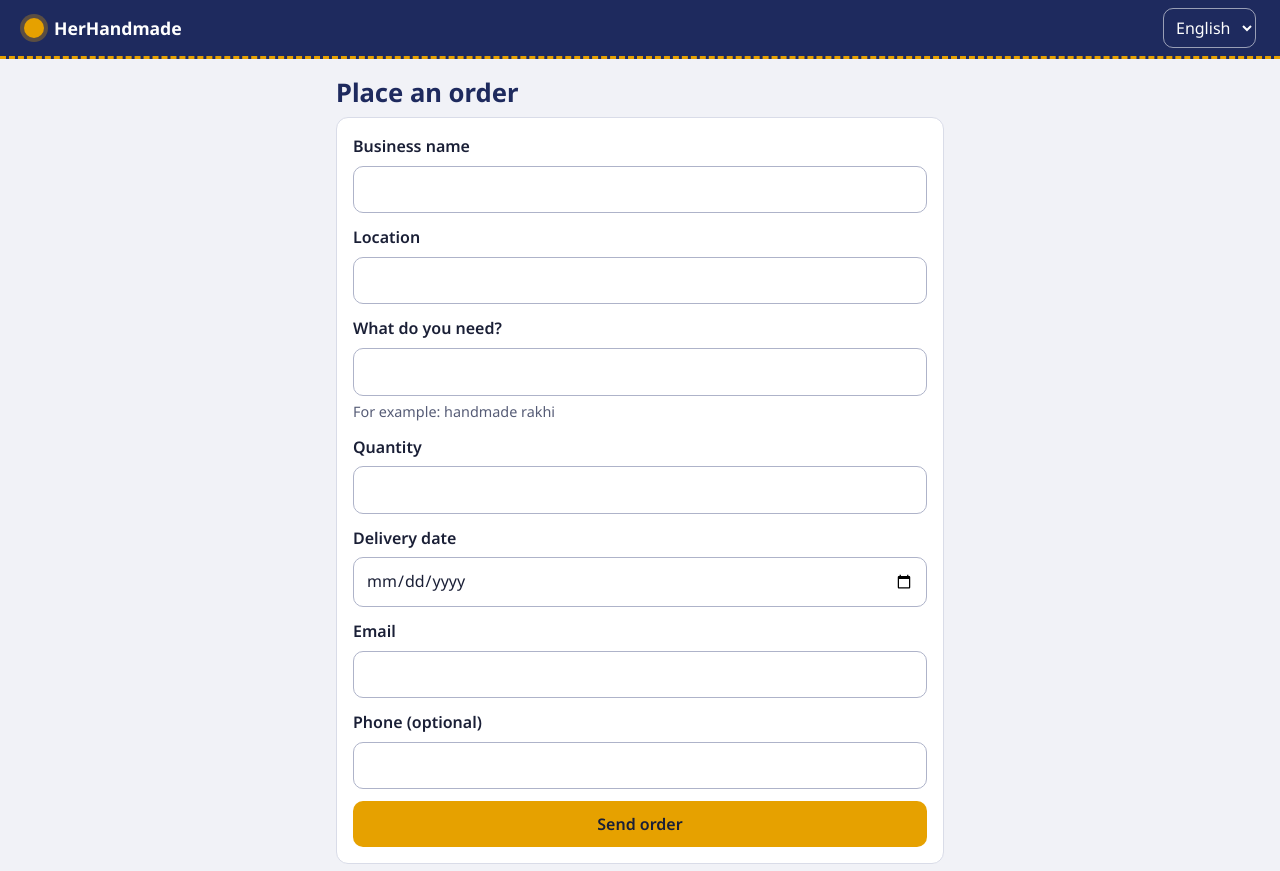
Scenario: a server error is shown in the user's language
Step 1. Type "A" into the field labelled "Business name" → (640, 189), box top-left (353, 166), bottom-right (927, 213)
Step 2. Type "B" into the field labelled "Location" → (640, 281), box top-left (353, 257), bottom-right (927, 304)
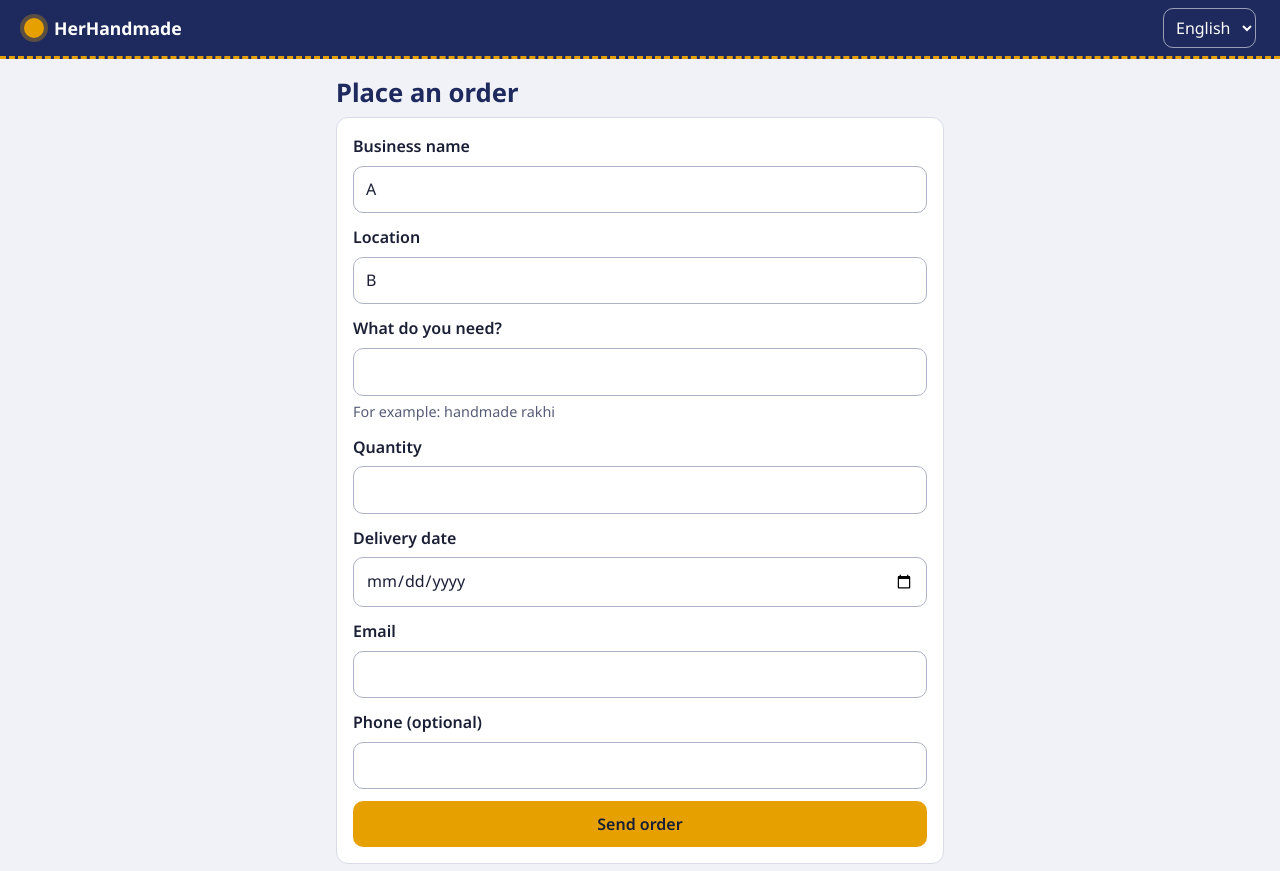
Step 3. Type "C" into the field labelled "What do you need?" → (640, 372), box top-left (353, 348), bottom-right (927, 396)
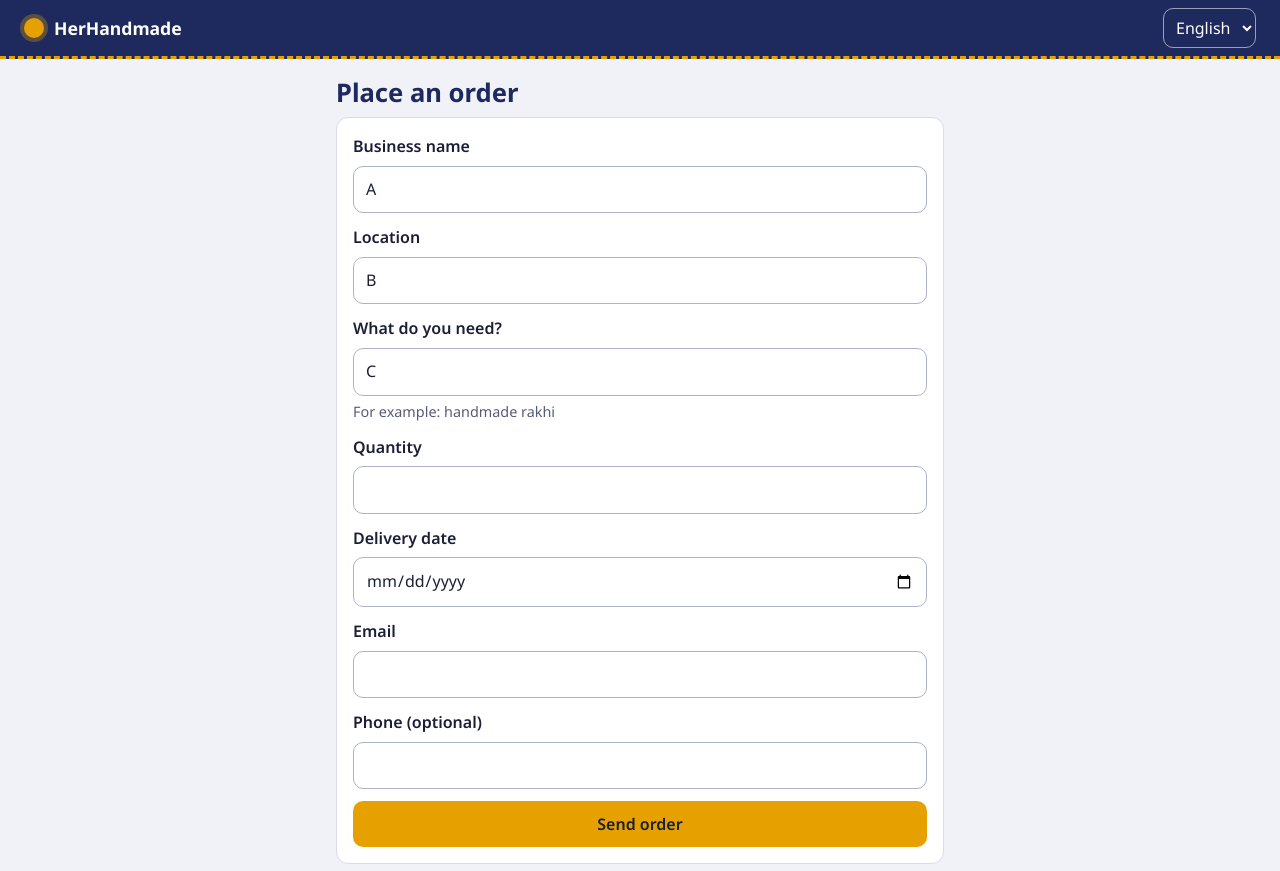
Step 4. Type "5" into the number field labelled "Quantity" → (640, 490), box top-left (353, 466), bottom-right (927, 514)
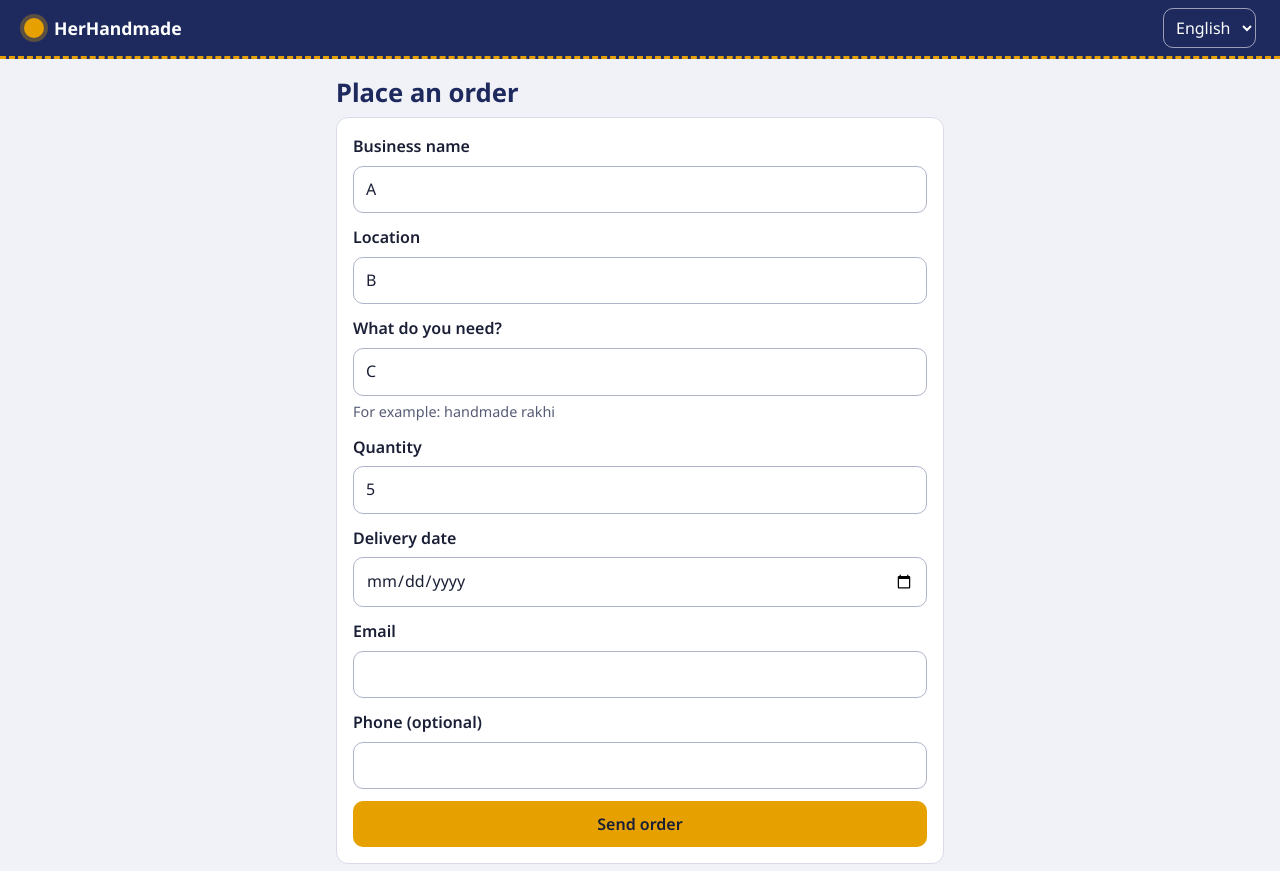
Step 5. Type "2099-01-01" into the date field labelled "Delivery date" → (640, 582), box top-left (353, 557), bottom-right (927, 607)
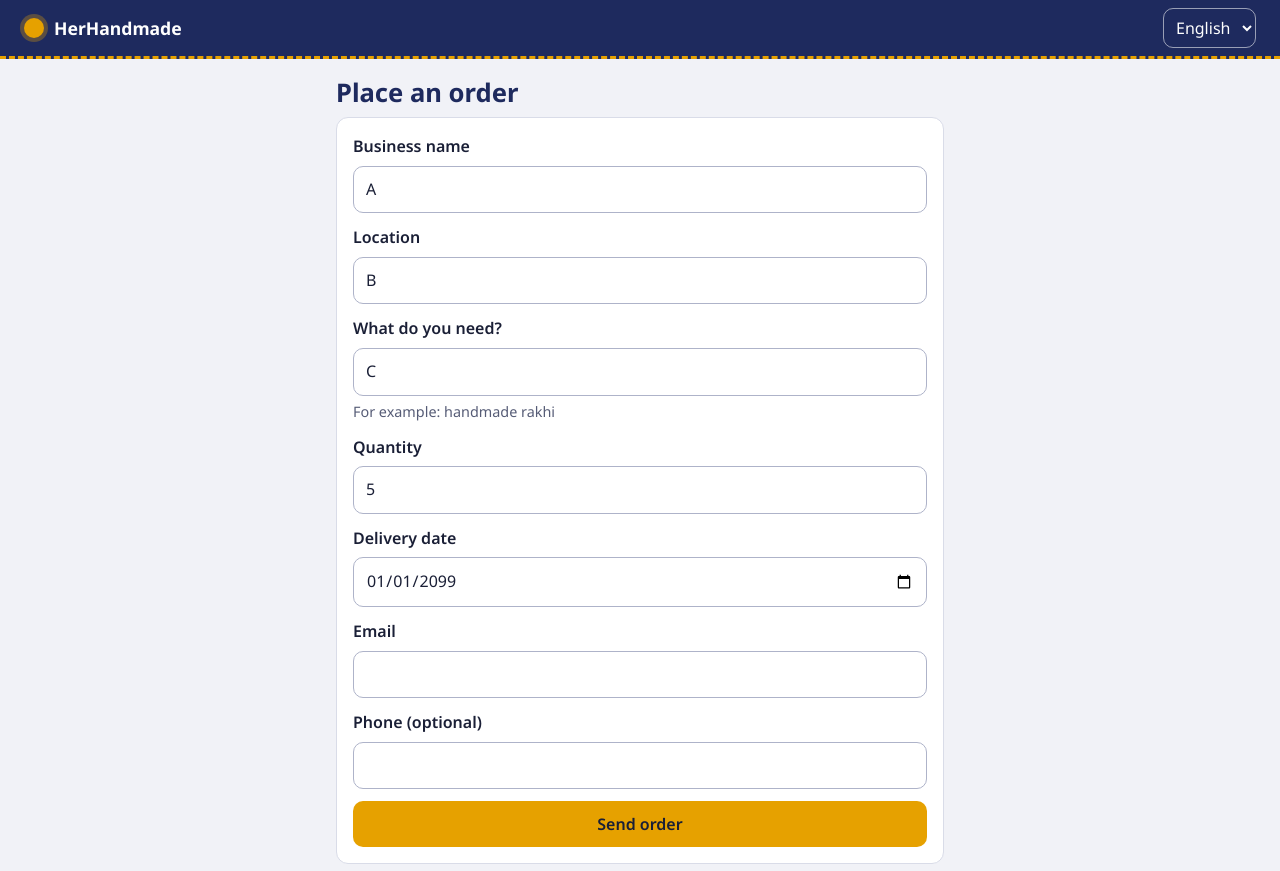
Step 6. Type "a@b.co" into the field labelled "Email" → (640, 674), box top-left (353, 651), bottom-right (927, 698)
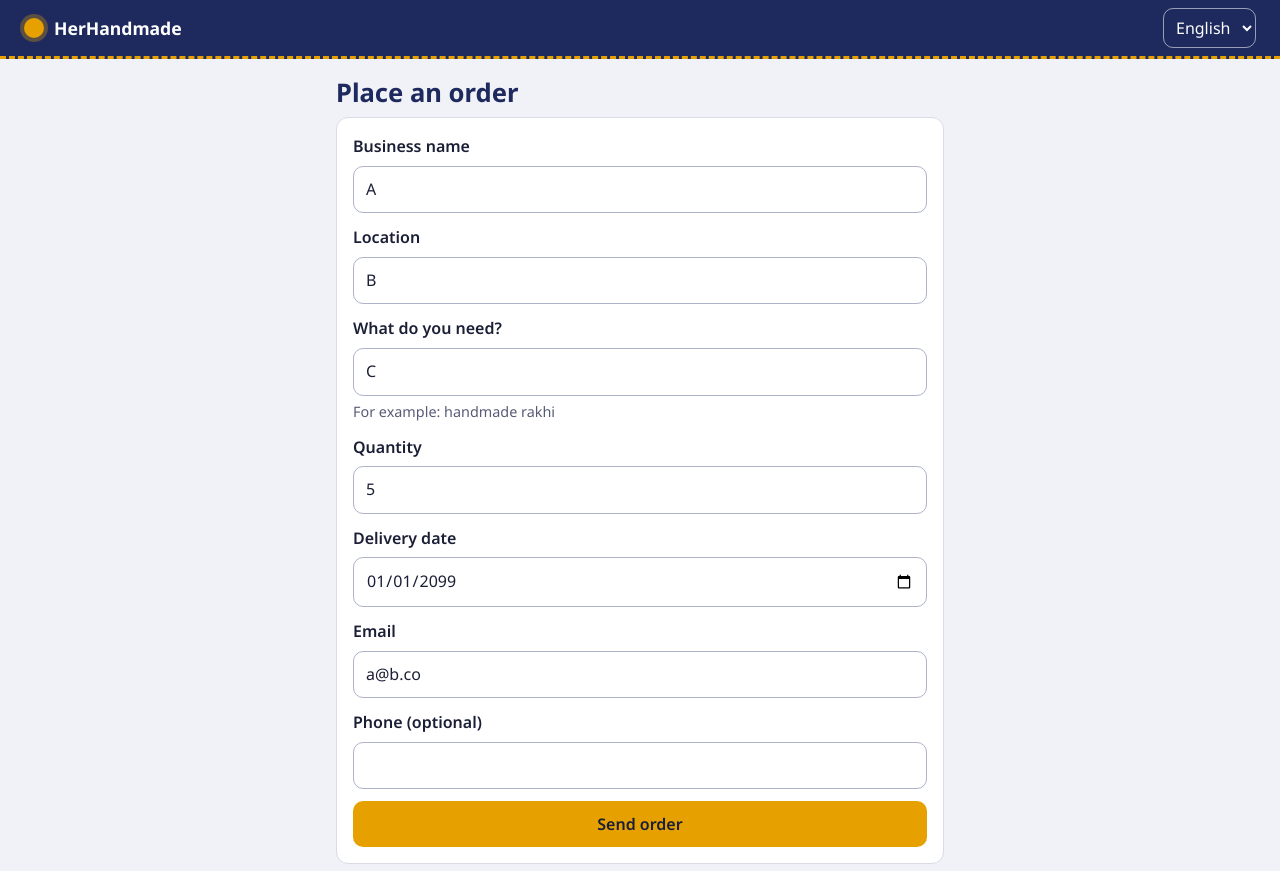
Step 7. Click the button "Send order" → click(640, 824), box top-left (353, 801), bottom-right (927, 847)
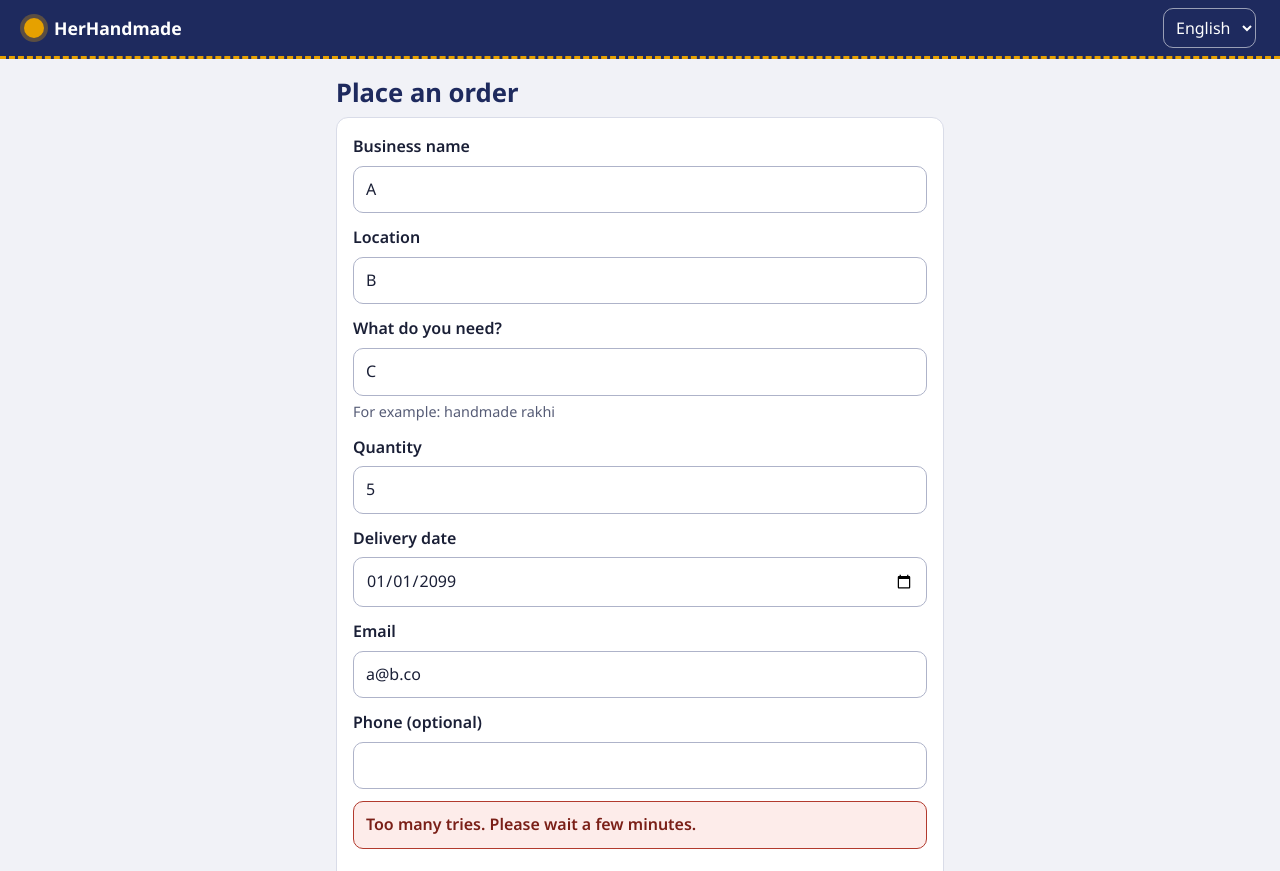
Now the message shows "Too many tries", box top-left (366, 813), bottom-right (696, 835)
